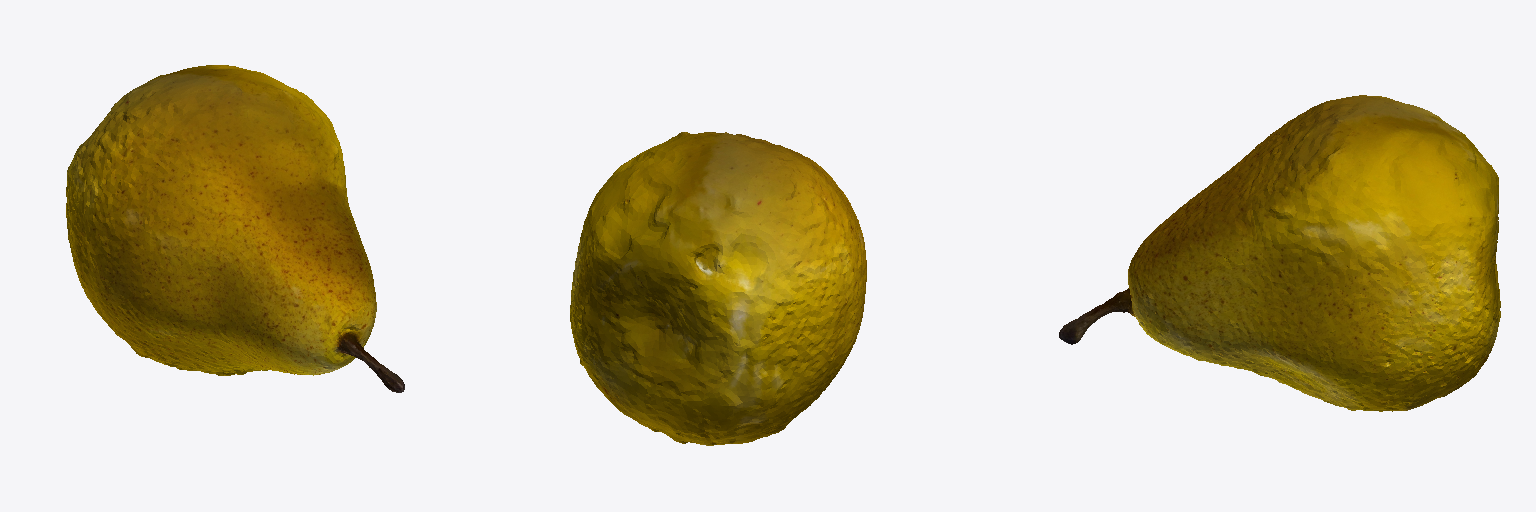
3 renders of one model, left to right at view 1: azimuth 30°, elevation 25°; view 2: azimuth 150°, elevation 25°; view 3: azimuth 270°, elevation 25°, orthographic.
Bounding box in the file's own units: 0.0734 × 0.0796 × 0.1111.
1 materials, 1 textured.